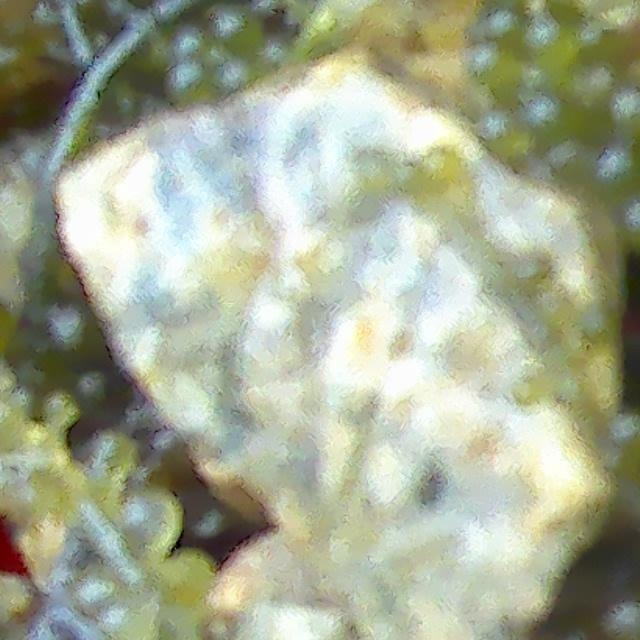SeaGrape: (119, 491, 184, 563), (74, 365, 131, 434), (146, 415, 205, 480), (190, 499, 248, 559), (518, 93, 573, 138), (597, 142, 640, 198), (479, 113, 533, 157), (527, 18, 573, 68), (472, 43, 517, 88), (482, 5, 531, 42), (41, 390, 80, 430)
